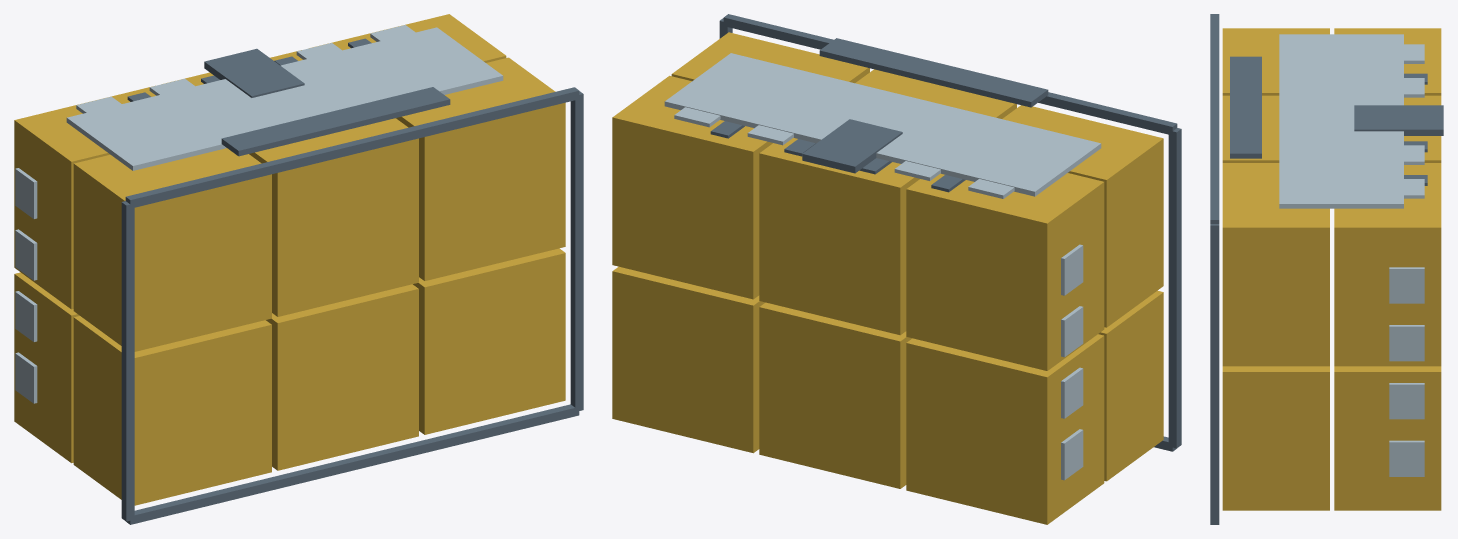
The model's file is building-gym.glb.
3 views of the same model, side by side, from view 1: azimuth 30°, elevation 25°; view 2: azimuth 150°, elevation 25°; view 3: azimuth 270°, elevation 25° (orthographic). The views are drawn at different scales.
Parts seen in each view (by area): view 1: world; view 2: world; view 3: world.
Part boxes in pixels (box(x1,y1,x2,y2)): world: box(14, 14, 583, 524); world: box(612, 14, 1181, 524); world: box(1210, 14, 1443, 524).
Size of the model in its own units: 15.56 by 10.97 by 7.32.
